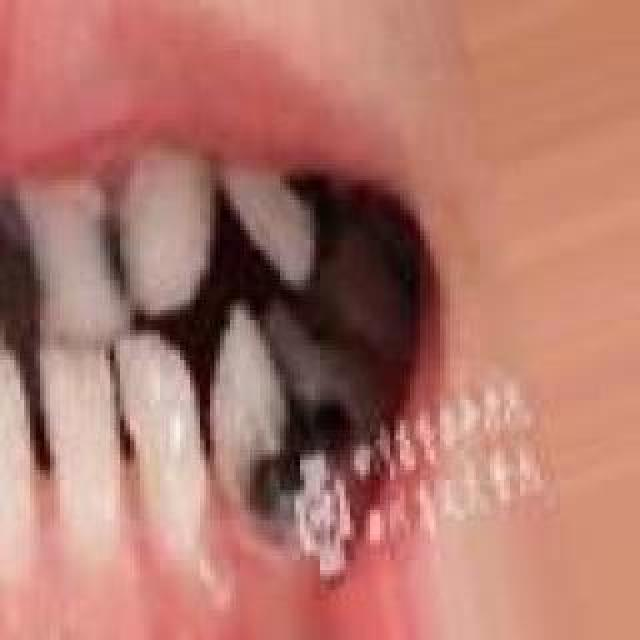cavities: (0, 190, 38, 348), (250, 441, 316, 525), (283, 405, 369, 469), (102, 219, 138, 313)
maligned: (204, 127, 364, 307), (10, 142, 126, 376), (115, 327, 209, 537), (198, 303, 292, 503), (27, 341, 107, 567), (0, 320, 36, 530), (0, 150, 16, 364)
spacing: (0, 350, 76, 486), (186, 342, 250, 490), (97, 355, 149, 473)
